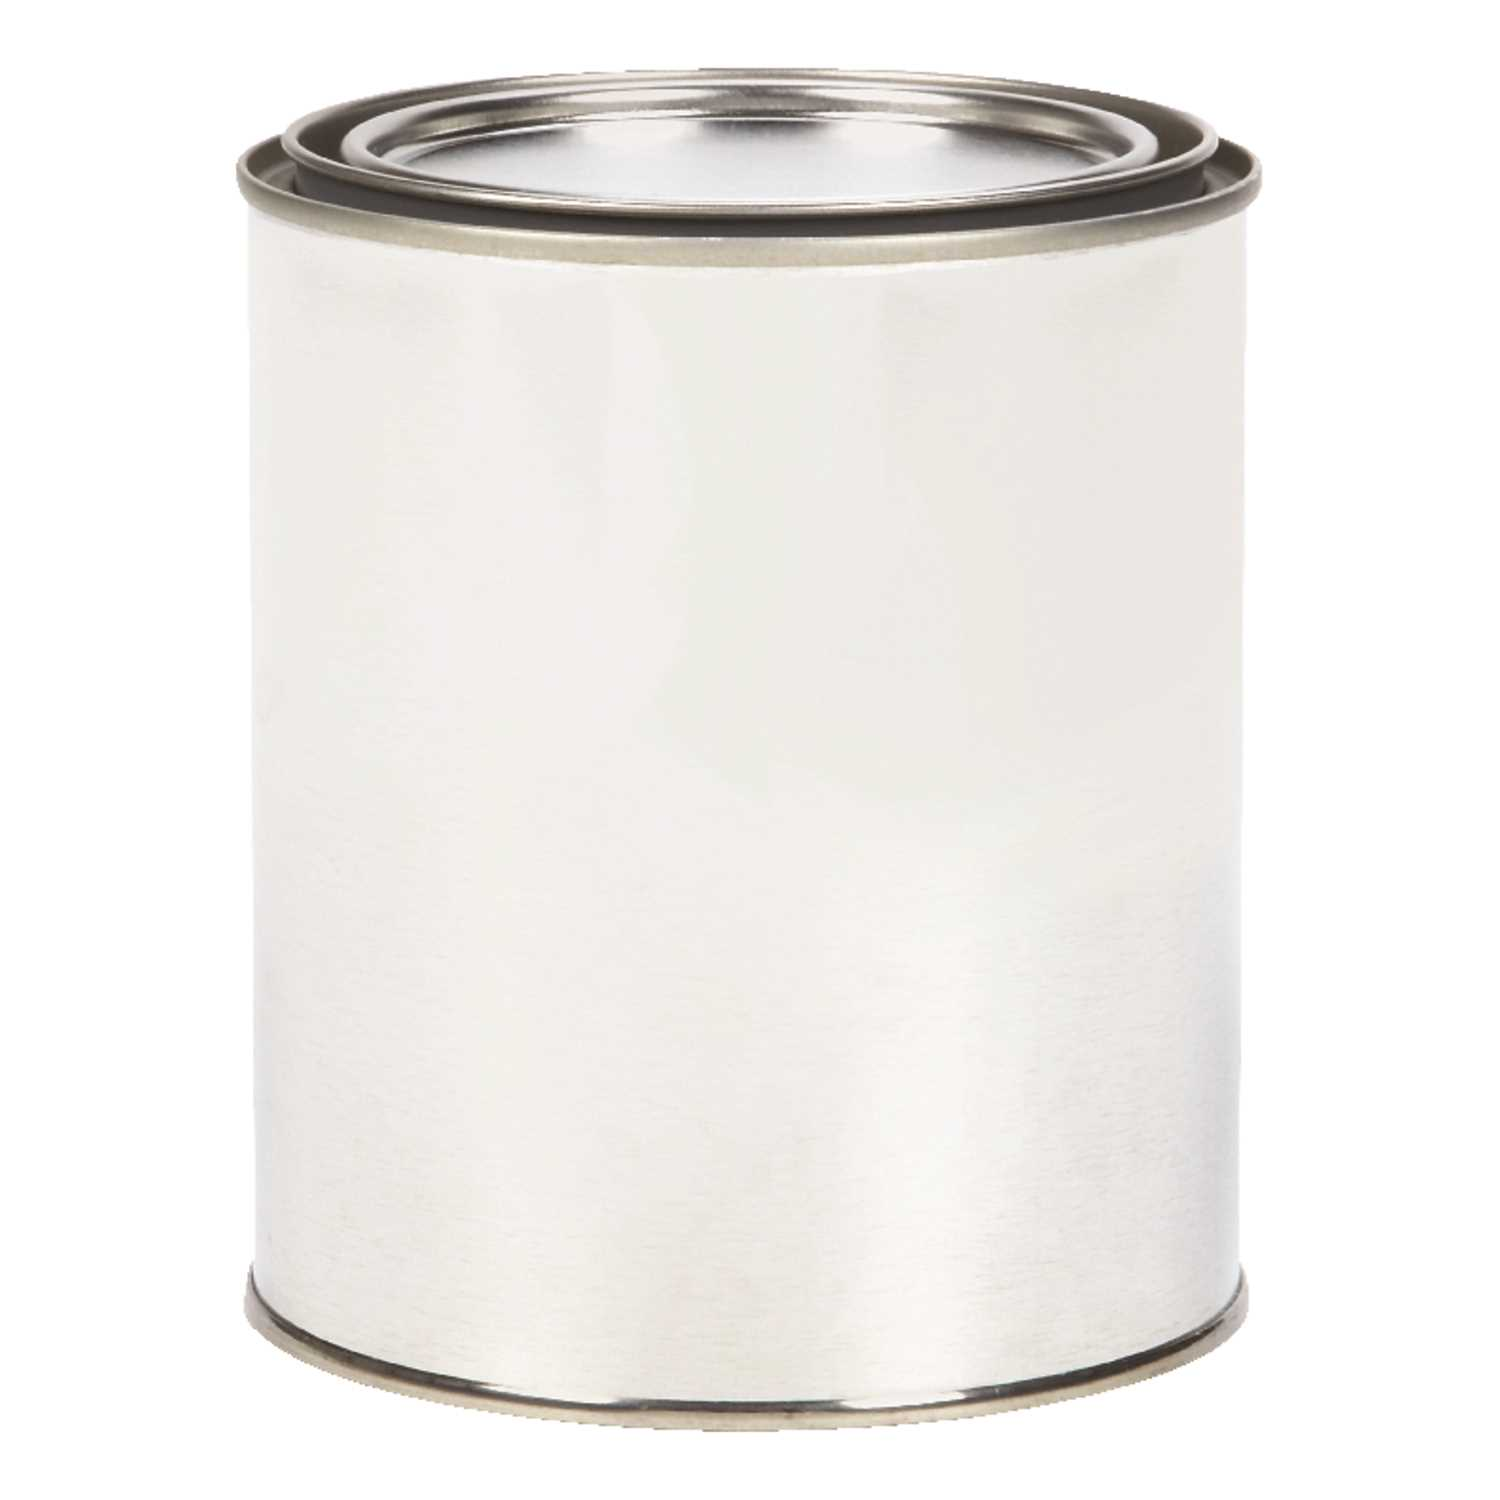metal: (229, 62, 1264, 1438)
